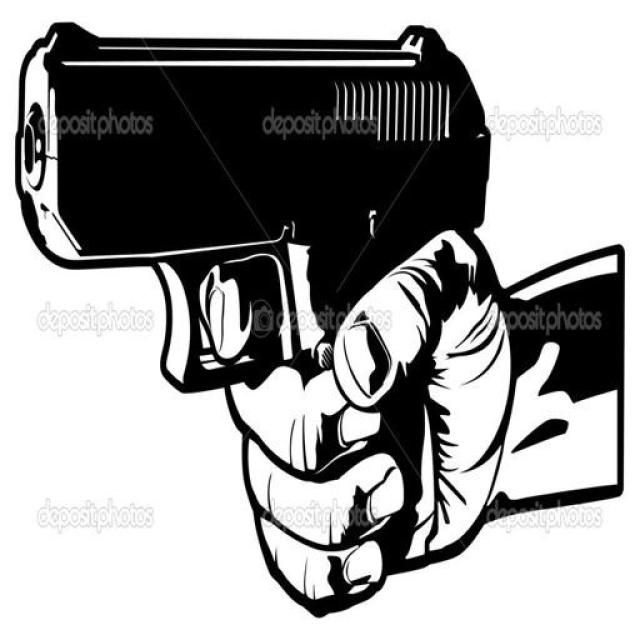pistol: (17, 14, 491, 575)
